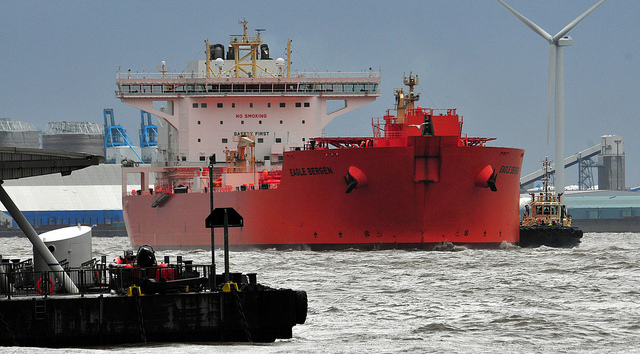tanker: (113, 23, 523, 255)
tug_boat: (523, 160, 586, 248)
